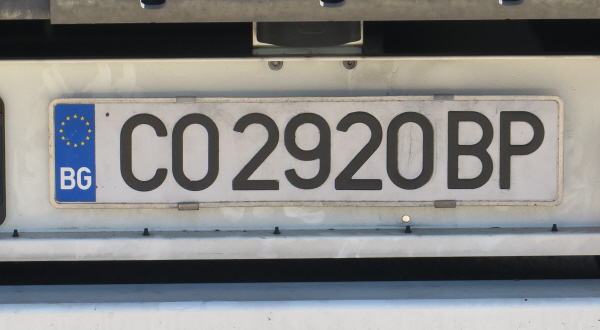license_plate: (50, 99, 561, 207)
